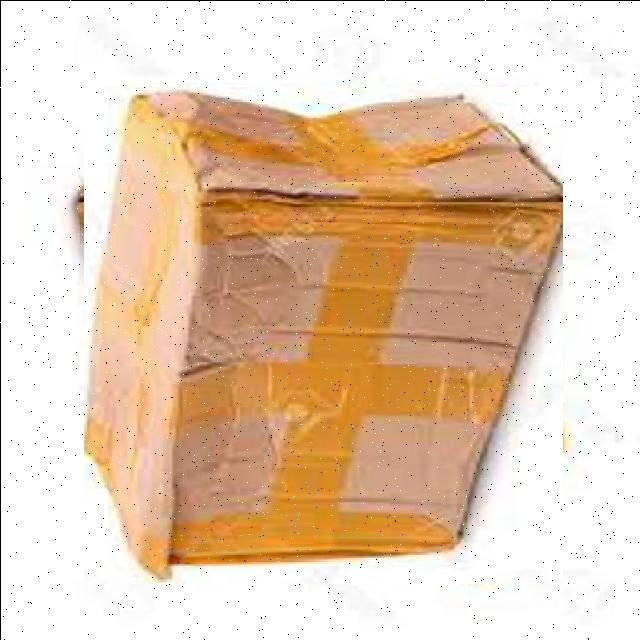normal: (83, 86, 562, 583)
